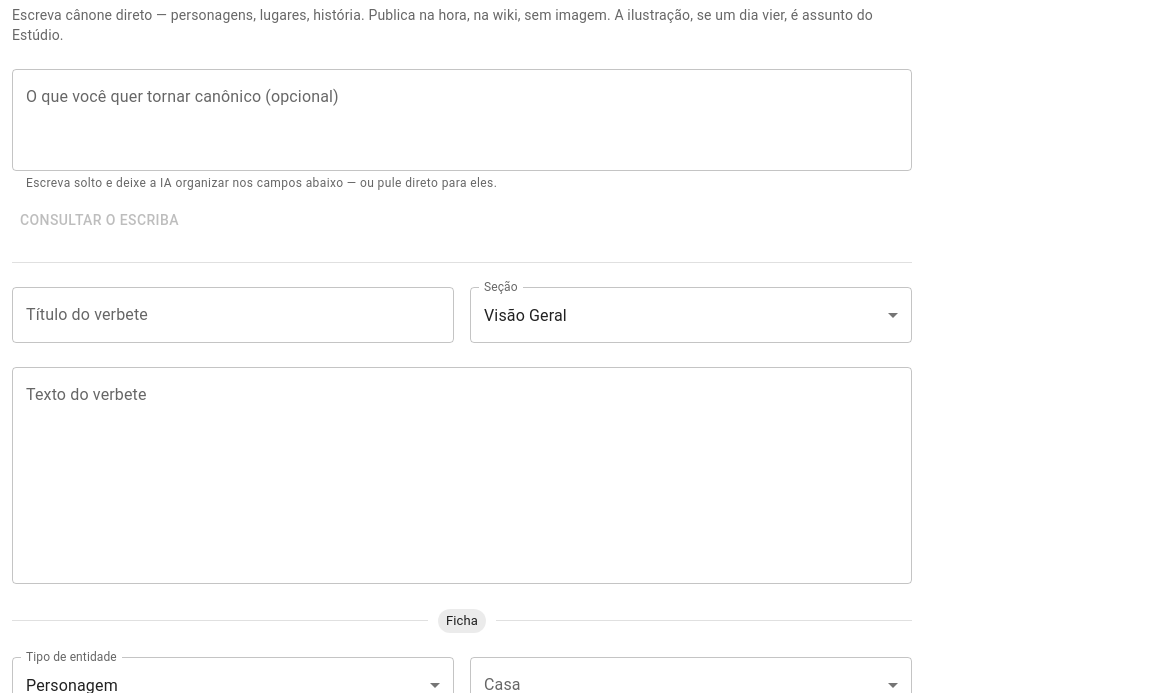
EscribaTab › depois de publicar, oferece o verbete criado
The image size is (1164, 693).
In the field labelled "Título do verbete": (233, 315) [12,287,454,343], type "Sera de Vargen"
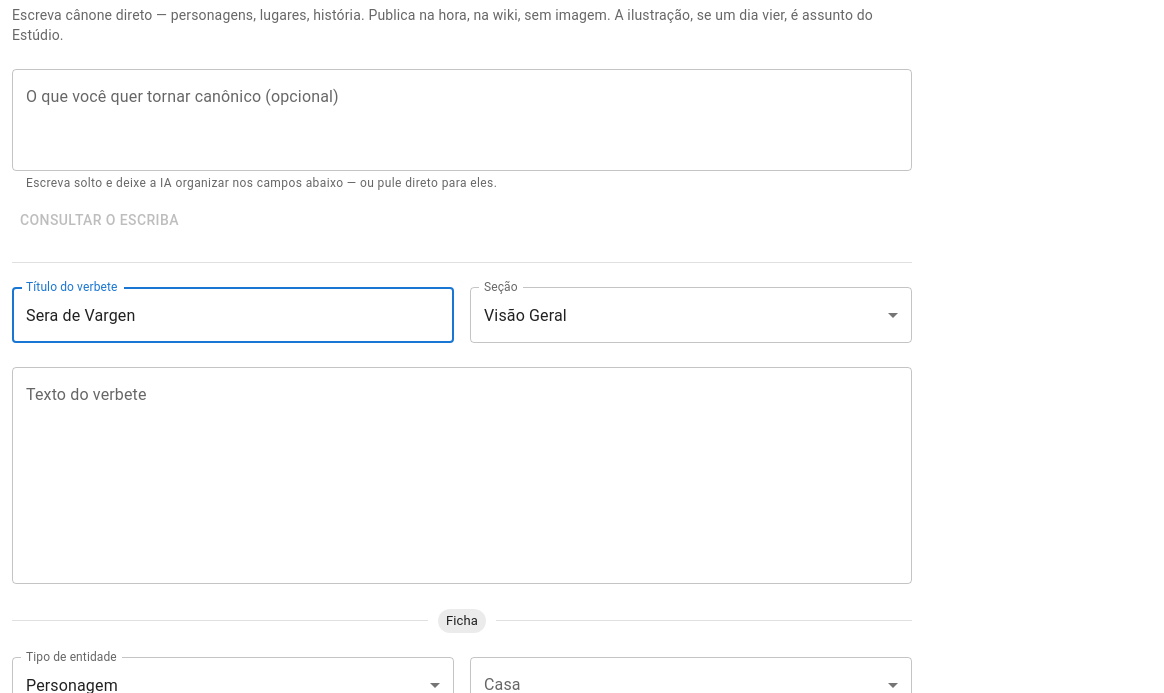
In the text box labelled "Texto do verbete": (462, 476) [26,384,898,568], type "Batedora das fronteiras."
(page scrolled)
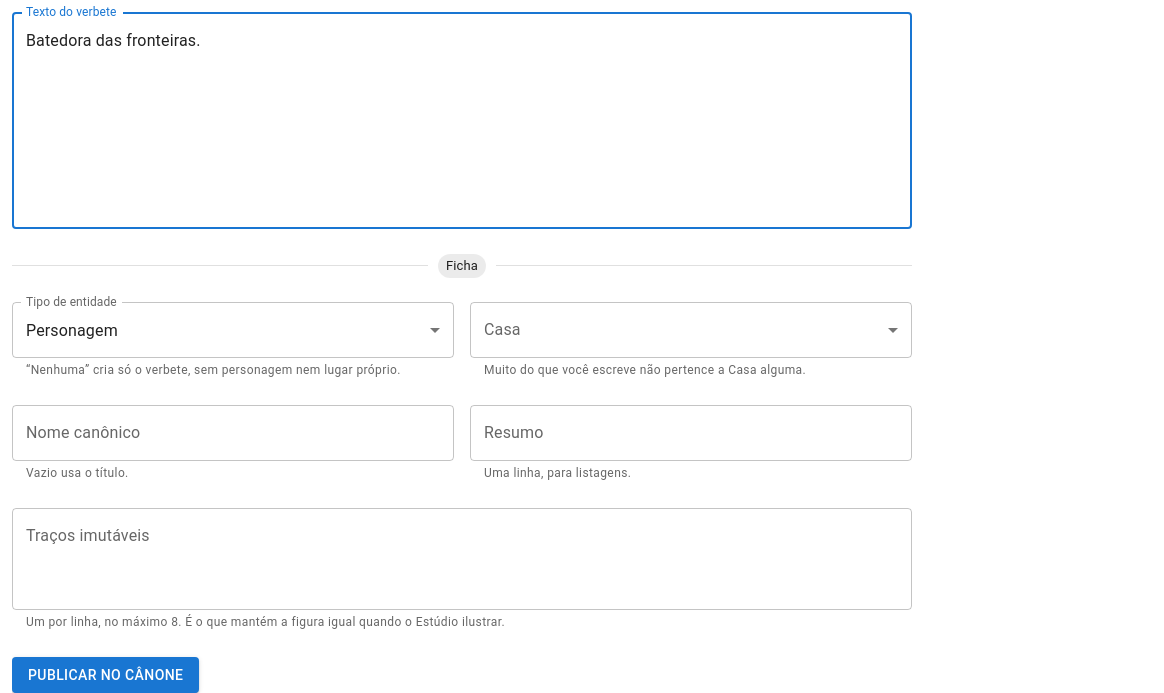
Click the button "Publicar no cânone": (106, 675) [12,657,199,692]
(page scrolled)
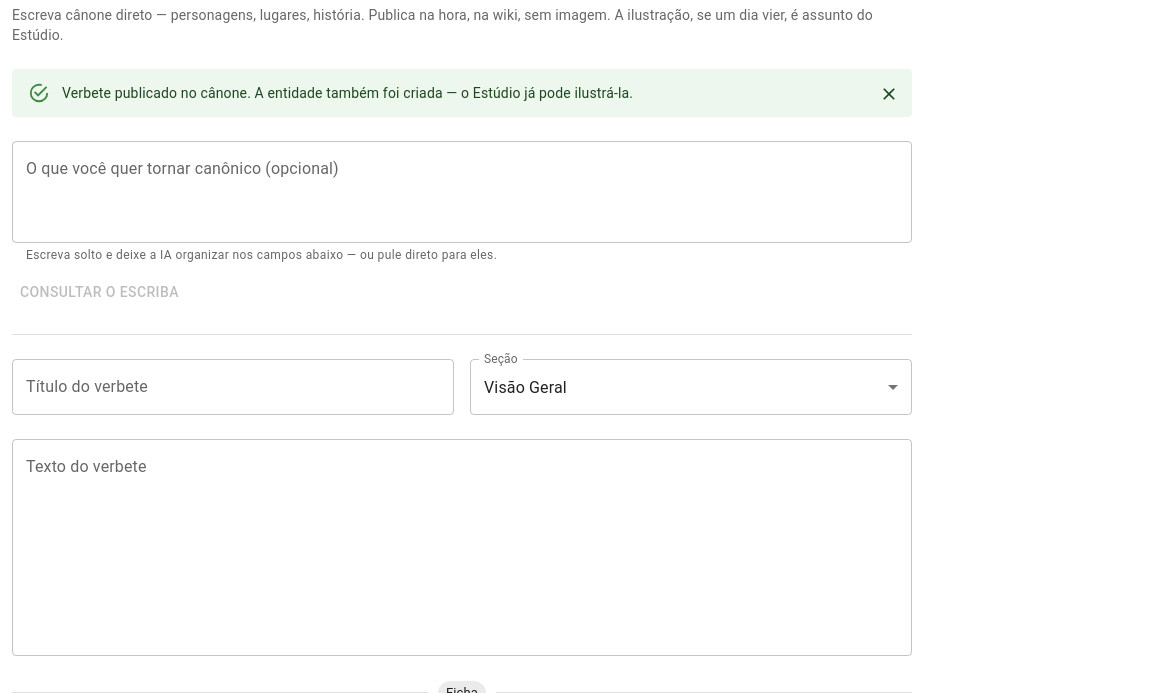
Result: the text "publicado no cânone" is shown at [62,85,251,101]
